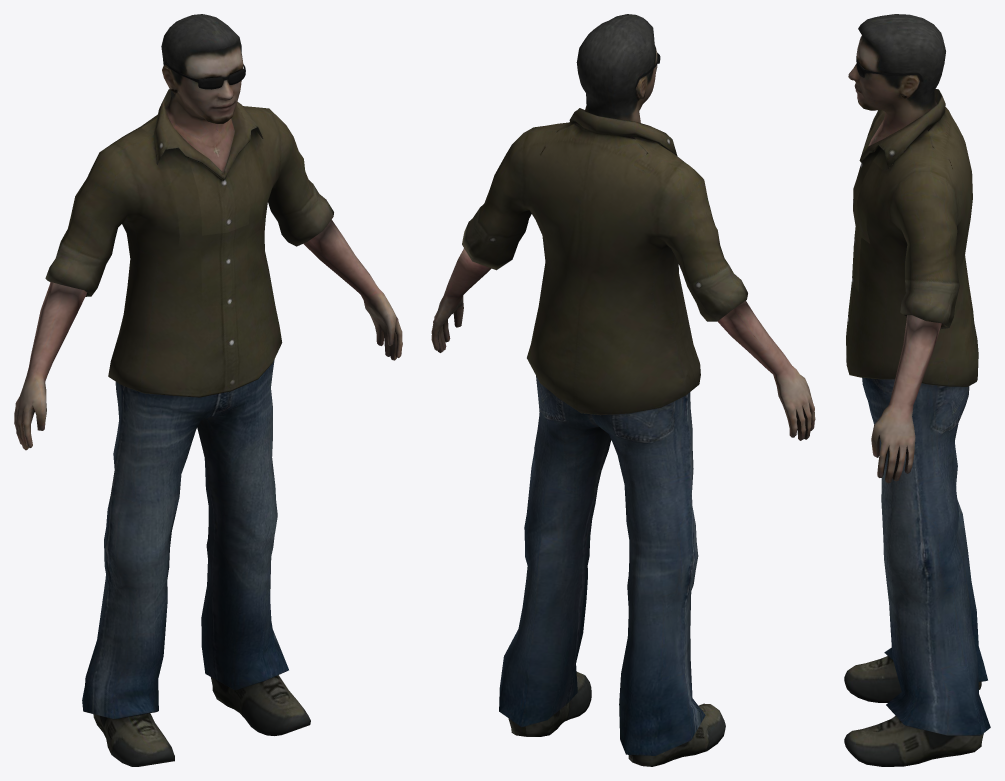
Rendered from fpsModel.obj.
The picture shows the model from 3 angles, left to right: view 1: azimuth 30°, elevation 25°; view 2: azimuth 150°, elevation 25°; view 3: azimuth 270°, elevation 25°; orthographic projection.
Visible parts, largest first — view 1: 3D_people_male_04_t_pose; view 2: 3D_people_male_04_t_pose; view 3: 3D_people_male_04_t_pose.
Part boxes in pixels (box(x1,y1,x2,y2)): 3D_people_male_04_t_pose: box(14, 14, 402, 766); 3D_people_male_04_t_pose: box(431, 14, 815, 766); 3D_people_male_04_t_pose: box(844, 14, 990, 766).
Bounding box in the file's own units: 102 × 184 × 34.47.
